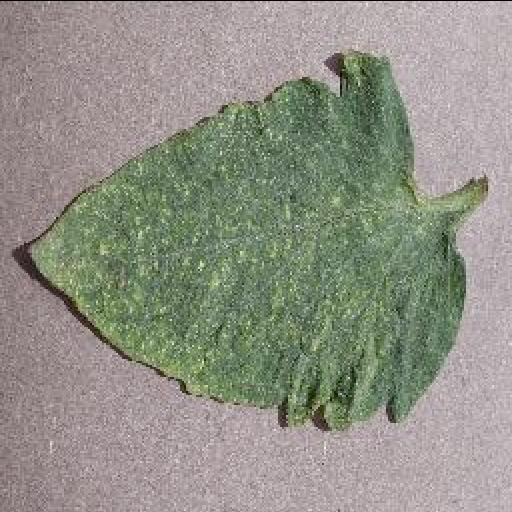disease_tomato: (24, 50, 470, 436)
